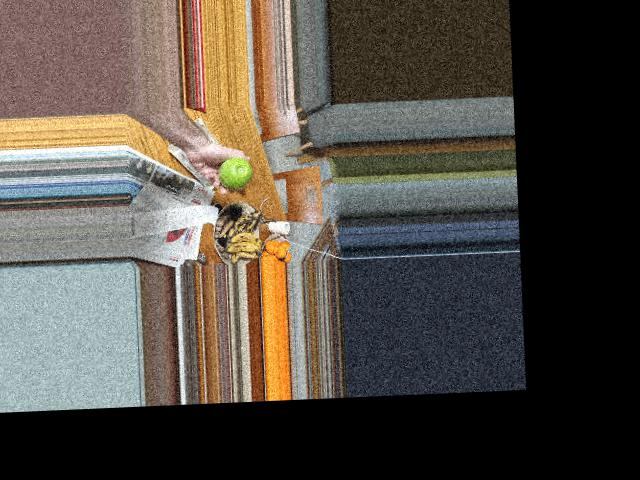apple: (217, 156, 253, 191)
